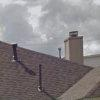Chimney: (59, 26, 96, 71)
